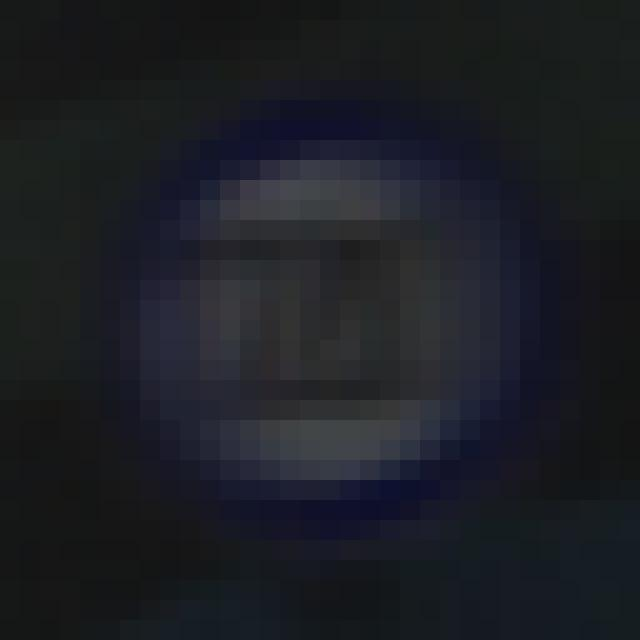SPEED LIMIT 120: (130, 133, 542, 499)
